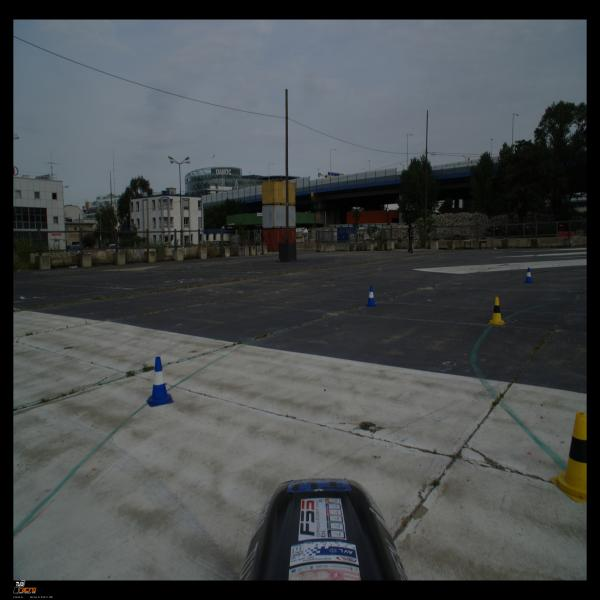blue_cone: (146, 357, 174, 407), (365, 286, 378, 306), (524, 268, 533, 283)
yellow_cone: (549, 412, 587, 502), (488, 297, 505, 325)
